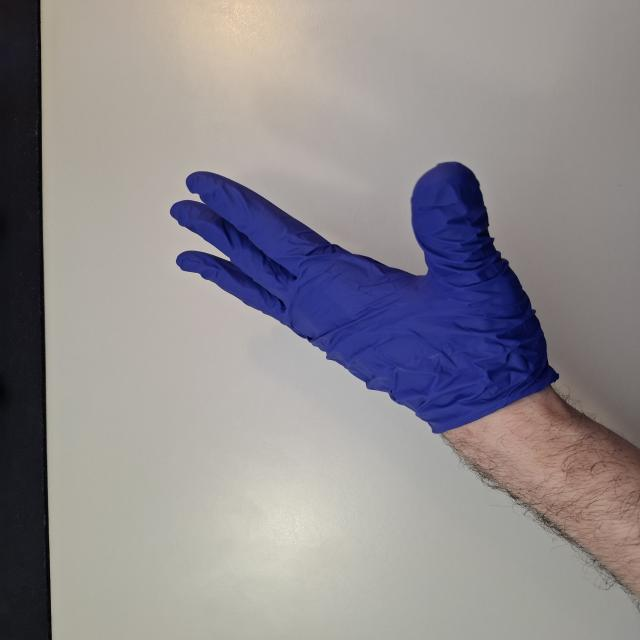glove_on: (168, 159, 562, 432)
